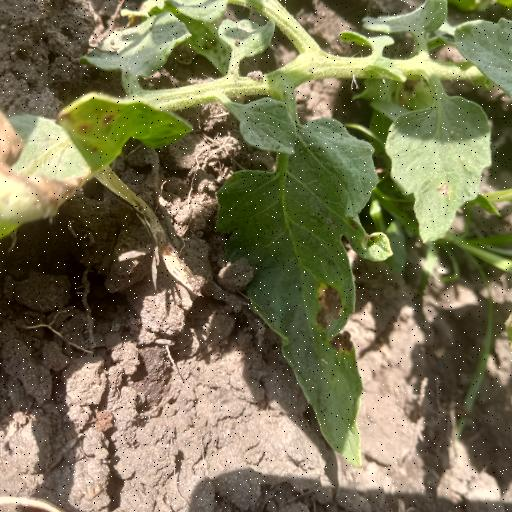Tomato_Brown_Spots: (202, 102, 383, 490), (390, 95, 498, 250)
